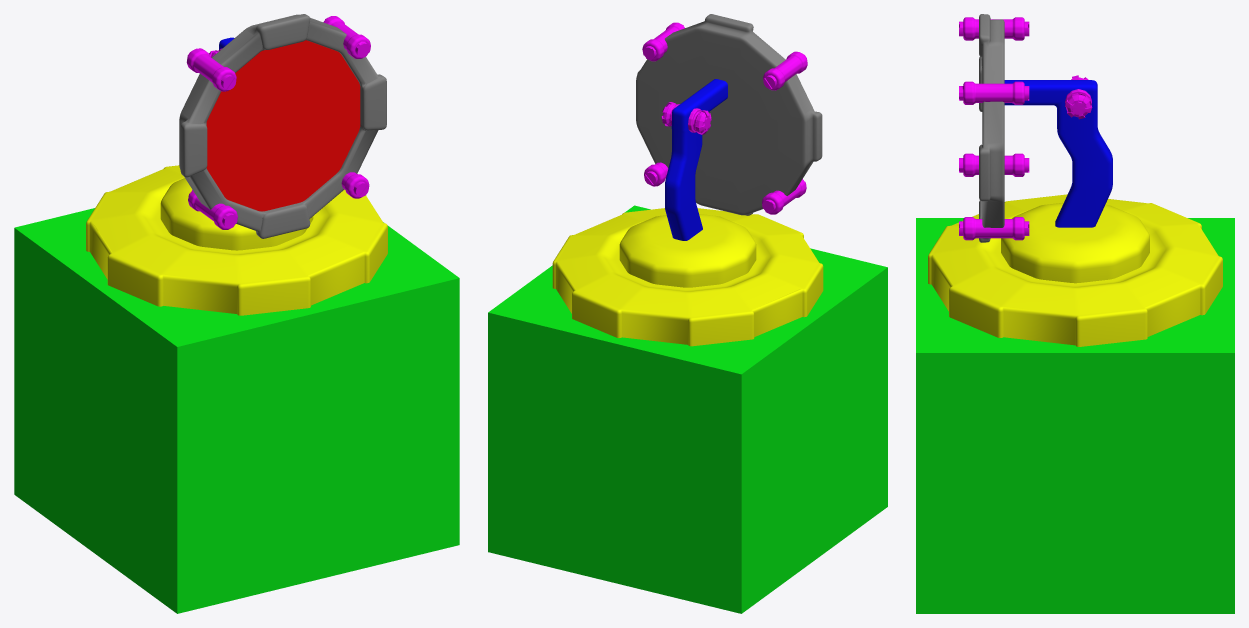
The model's file is LasersMirrors_high.fbx.
3 renders of one model, left to right at view 1: azimuth 30°, elevation 25°; view 2: azimuth 150°, elevation 25°; view 3: azimuth 270°, elevation 25°, orthographic. The views are drawn at different scales.
Parts seen in each view (by area): view 1: Floor_high, Base_high, Mirror_high, MirrorBack_high, Bolt_high (×3); view 2: Floor_high, Base_high, MirrorBack_high, Neck_high, Bolt_high (×3), Crank_high; view 3: Floor_high, Base_high, Neck_high, MirrorBack_high, Bolt_high (×4), Crank_high.
Boxes of the visible parts, bbox=[...] form: Floor_high: bbox=[14, 208, 459, 613]; Base_high: bbox=[86, 165, 387, 315]; Mirror_high: bbox=[206, 40, 360, 211]; MirrorBack_high: bbox=[179, 14, 386, 238]; Bolt_high (×3): bbox=[186, 16, 370, 229]; Floor_high: bbox=[488, 205, 887, 613]; Base_high: bbox=[552, 208, 823, 346]; MirrorBack_high: bbox=[636, 14, 822, 215]; Neck_high: bbox=[665, 79, 727, 240]; Bolt_high (×3): bbox=[642, 22, 807, 214]; Crank_high: bbox=[661, 102, 711, 134]; Floor_high: bbox=[916, 218, 1234, 613]; Base_high: bbox=[928, 194, 1222, 346]; Neck_high: bbox=[1004, 80, 1112, 227]; MirrorBack_high: bbox=[979, 14, 1004, 242]; Bolt_high (×4): bbox=[959, 17, 1029, 240]; Crank_high: bbox=[1065, 75, 1092, 119].
Bounding box in the file's own units: 39.37 × 71.08 × 39.37.
